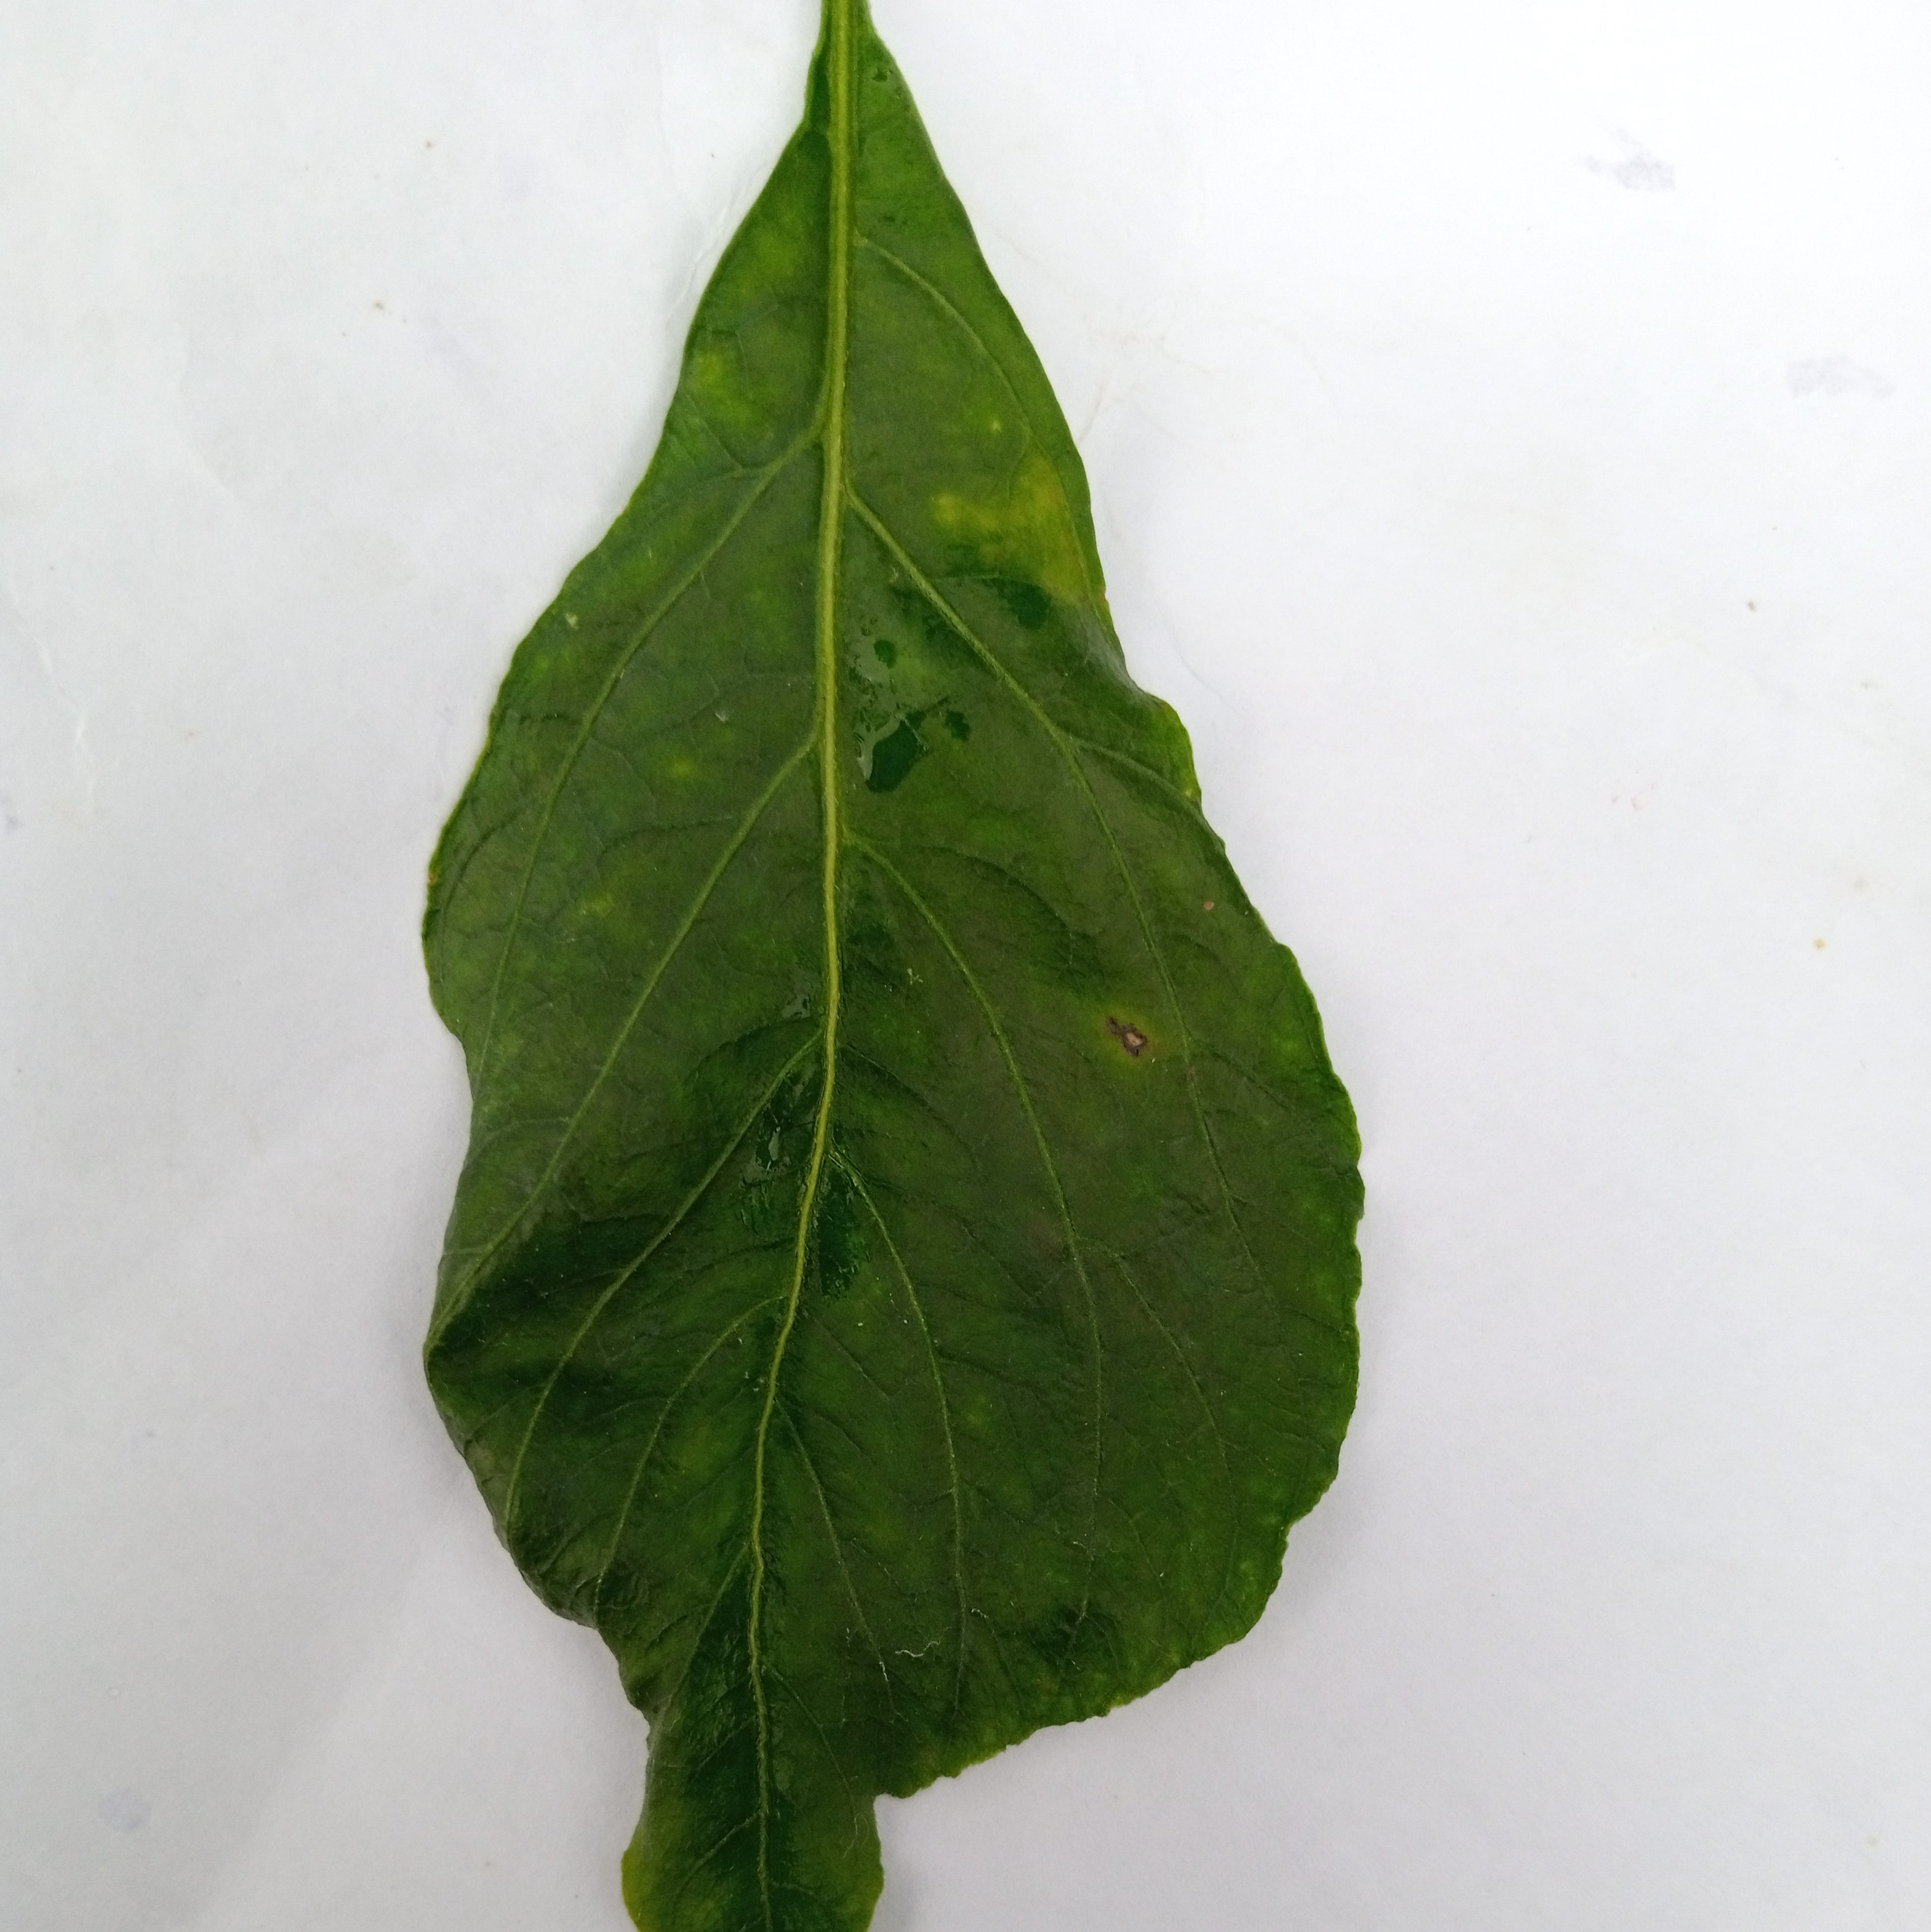Leaf: (308, 74, 1570, 1932)
